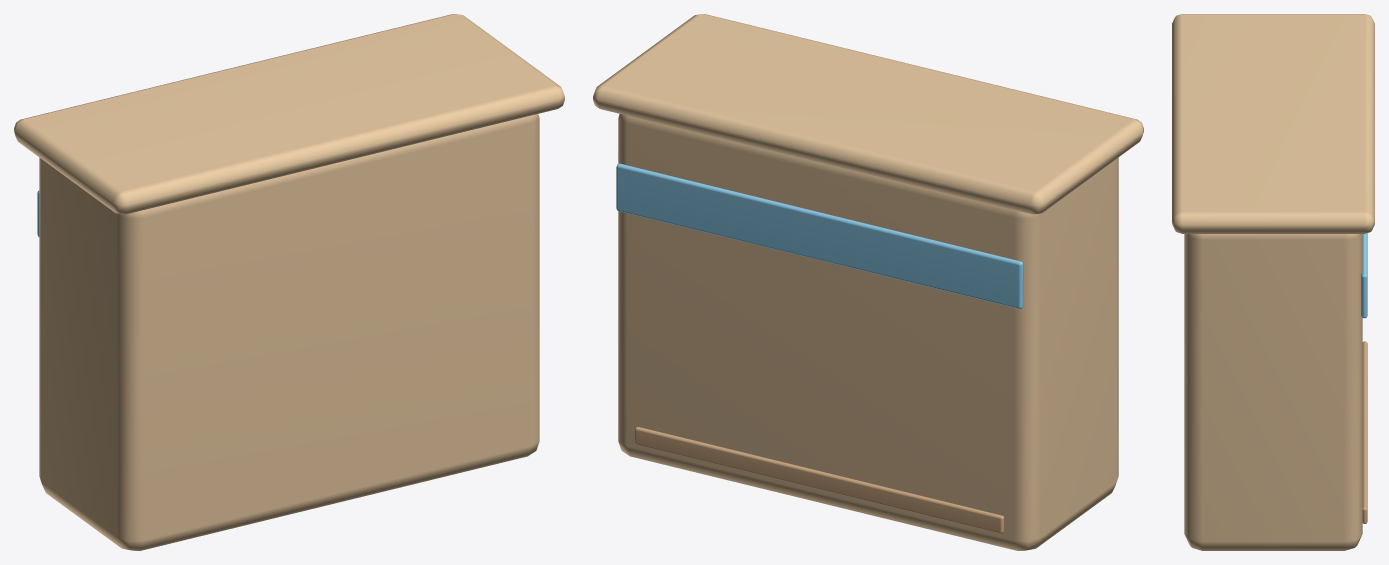
The model's file is counter_wood.glb.
3 renders of one model, left to right at view 1: azimuth 30°, elevation 25°; view 2: azimuth 150°, elevation 25°; view 3: azimuth 270°, elevation 25°, orthographic. The views are drawn at different scales.
Parts seen in each view (by area): view 1: Body; view 2: Body; view 3: Body.
Part boxes in pixels (x1=…): Body: x1=14, y1=14, x2=564, y2=550; Body: x1=593, y1=14, x2=1143, y2=550; Body: x1=1172, y1=14, x2=1374, y2=550.
Size of the model in its own units: 1.2 by 0.95 by 0.5.
3 materials, 3 textured.
